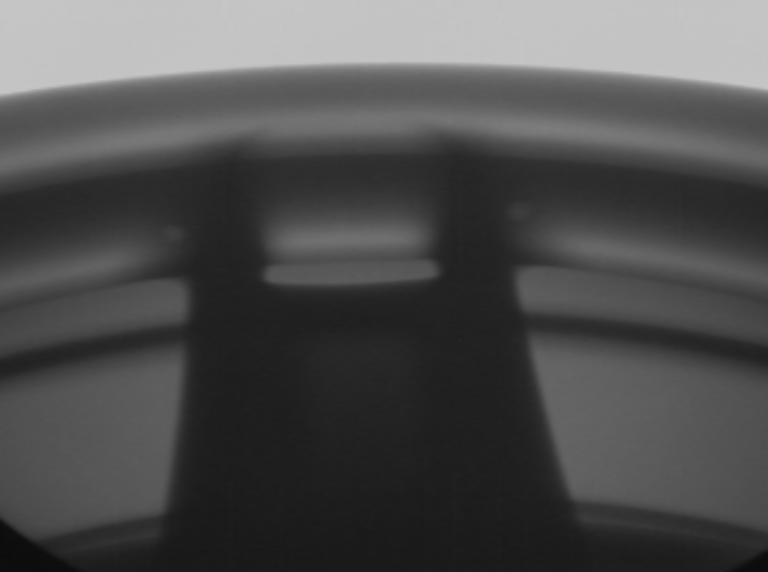defect: (162, 217, 207, 246)
